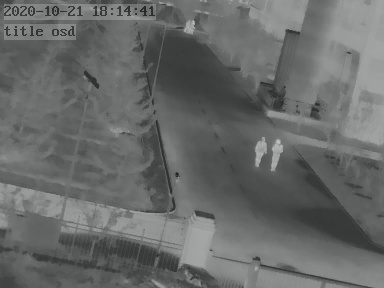person: (269, 137, 284, 170), (256, 136, 269, 171), (183, 18, 190, 33), (189, 19, 196, 34)
